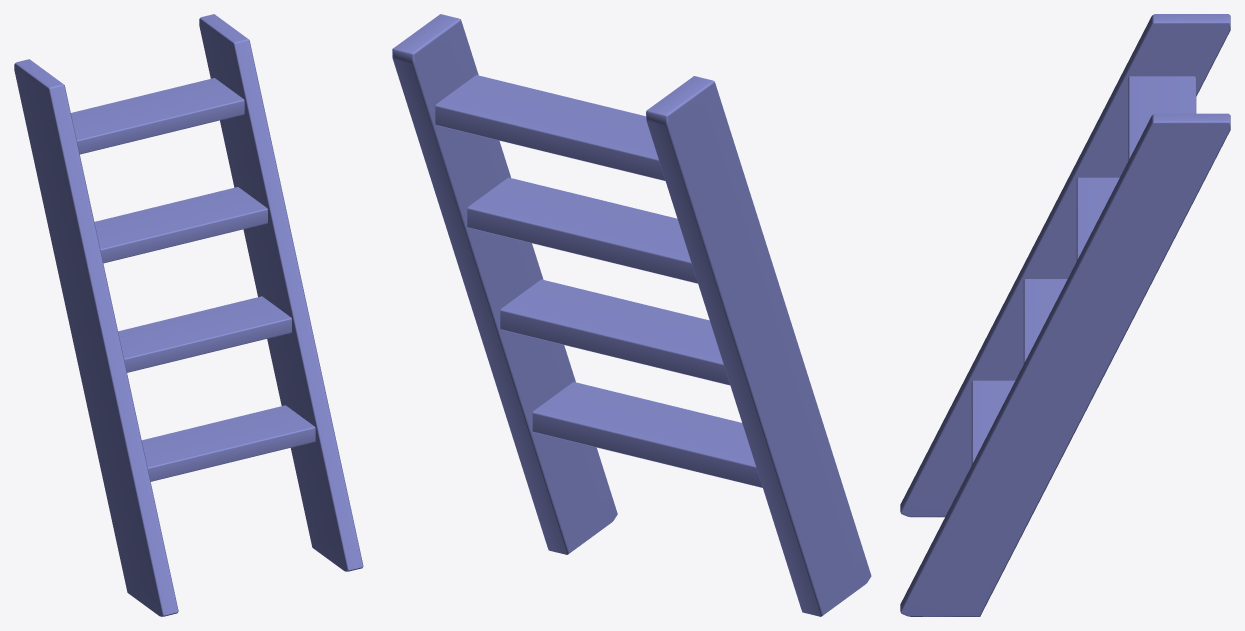
File: HalloweenRoomA_Ladder.fbx
3 renders of one model, left to right at view 1: azimuth 30°, elevation 25°; view 2: azimuth 150°, elevation 25°; view 3: azimuth 270°, elevation 25°, orthographic. The views are drawn at different scales.
Visible parts, largest first — view 1: HalloweenRoomA_Ladder; view 2: HalloweenRoomA_Ladder; view 3: HalloweenRoomA_Ladder.
Part boxes in pixels (x1,y1,x2,y2): HalloweenRoomA_Ladder: (14,14,363,616); HalloweenRoomA_Ladder: (392,14,871,616); HalloweenRoomA_Ladder: (900,14,1230,616).
Bounding box in the file's own units: 57.89 × 123 × 74.41.
